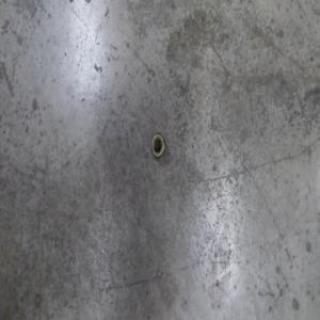Nuttrack_idkeyframe: (150, 130, 165, 160)
